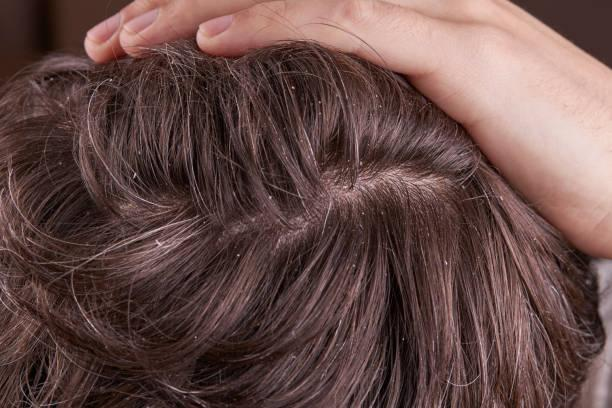dandruff: (146, 232, 168, 255), (309, 94, 328, 117), (345, 259, 364, 276), (439, 252, 454, 272), (488, 191, 511, 202), (128, 166, 138, 187), (262, 188, 275, 203), (453, 183, 468, 194), (232, 246, 242, 262), (280, 84, 295, 92), (354, 207, 366, 216)
